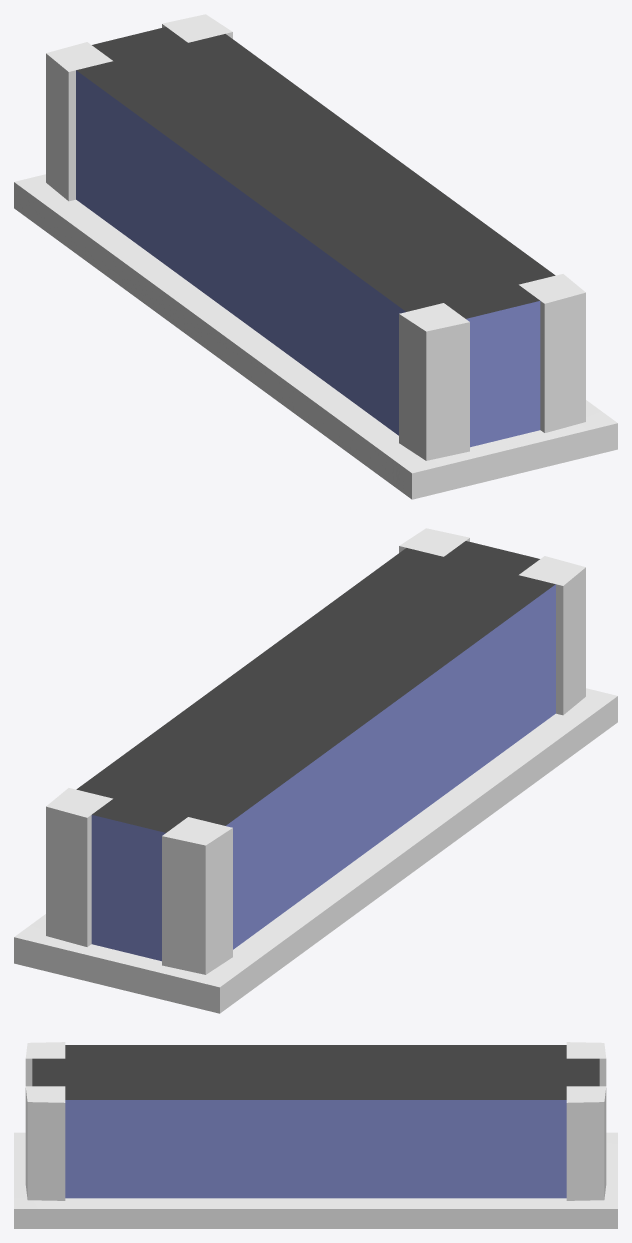
File: desk.fbx
The picture shows the model from 3 angles, top to bottom: view 1: azimuth 30°, elevation 25°; view 2: azimuth 150°, elevation 25°; view 3: azimuth 270°, elevation 25°; orthographic projection. The views are drawn at different scales.
Parts seen in each view (by area): view 1: Cube; view 2: Cube; view 3: Cube.
Part boxes in pixels (bbox=[...]): Cube: bbox=[14, 14, 617, 499]; Cube: bbox=[14, 528, 617, 1013]; Cube: bbox=[14, 1042, 617, 1228].
Bounding box in the file's own units: 276 × 200 × 923.
